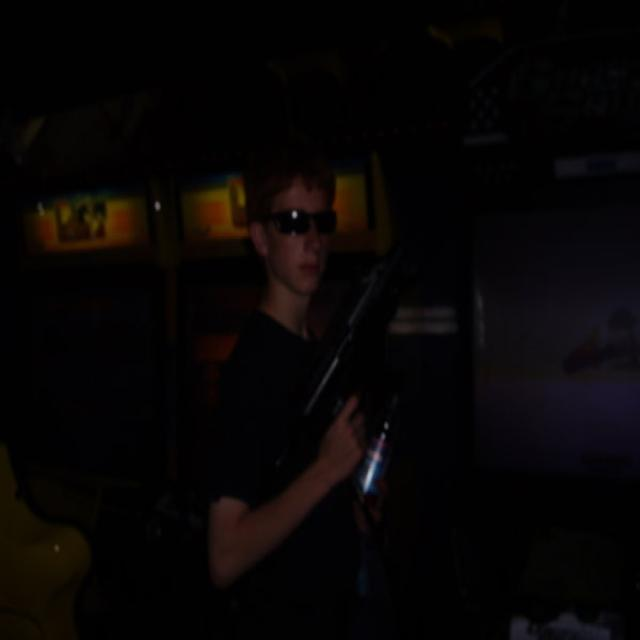Bottle: (346, 375, 427, 529)
People: (231, 162, 353, 640)
